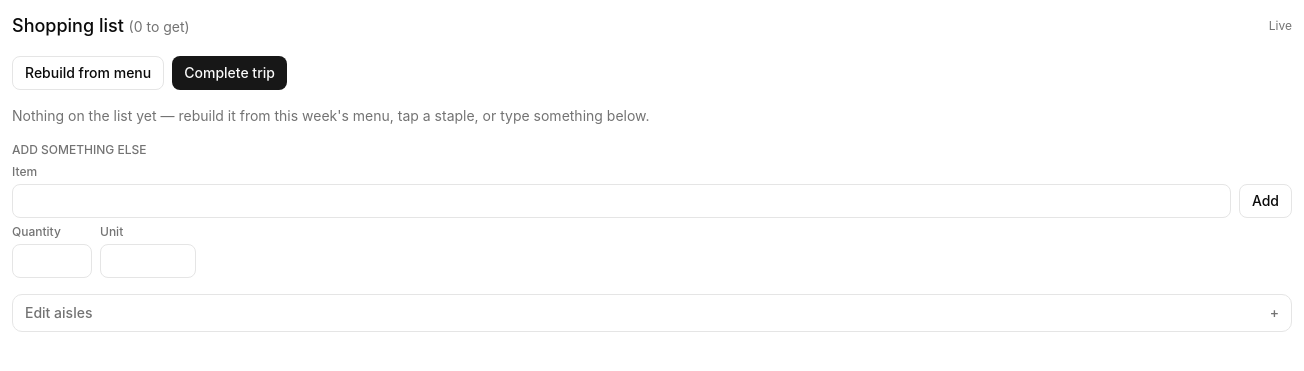
Test: GroceryList — add something else › shows the action's error under the form's fields
Type "Lemons" into the dropdown labelled "Item".
click(621, 201); type("Lemons")  # box left=12, top=184, right=1231, bottom=218
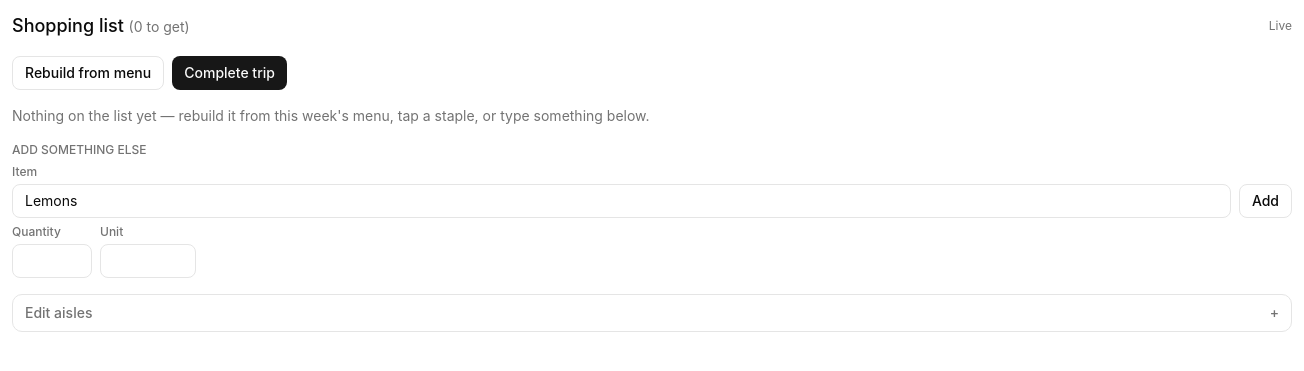
Click the button "Add".
click(1265, 201)  # box left=1239, top=184, right=1292, bottom=218
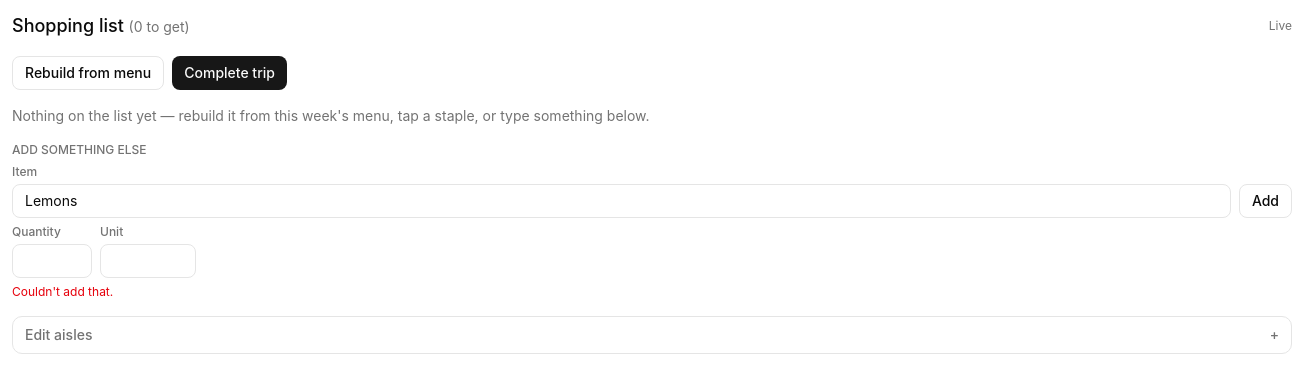
Expected: the message reads "Couldn't add that.", left=12, top=284, right=113, bottom=299
